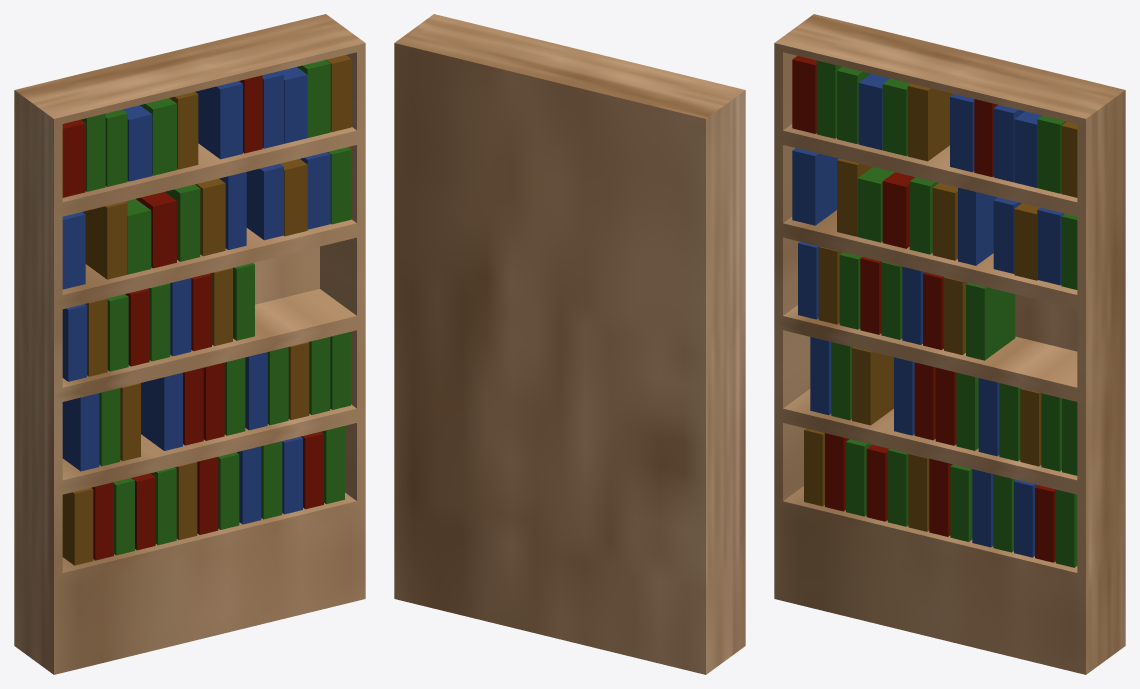
File: Shelf.glb
3 renders of one model, left to right at view 1: azimuth 30°, elevation 25°; view 2: azimuth 150°, elevation 25°; view 3: azimuth 330°, elevation 25°, orthographic.
Parts seen in each view (by area): view 1: Cube.042; view 2: Cube.042; view 3: Cube.042.
Boxes of the visible parts, <box> form: Cube.042: <box>14,14,365,674</box>; Cube.042: <box>394,14,745,674</box>; Cube.042: <box>774,14,1125,674</box>.
Bounding box in the file's own units: 5.42 × 9.24 × 1.19.
5 materials, 1 textured.
